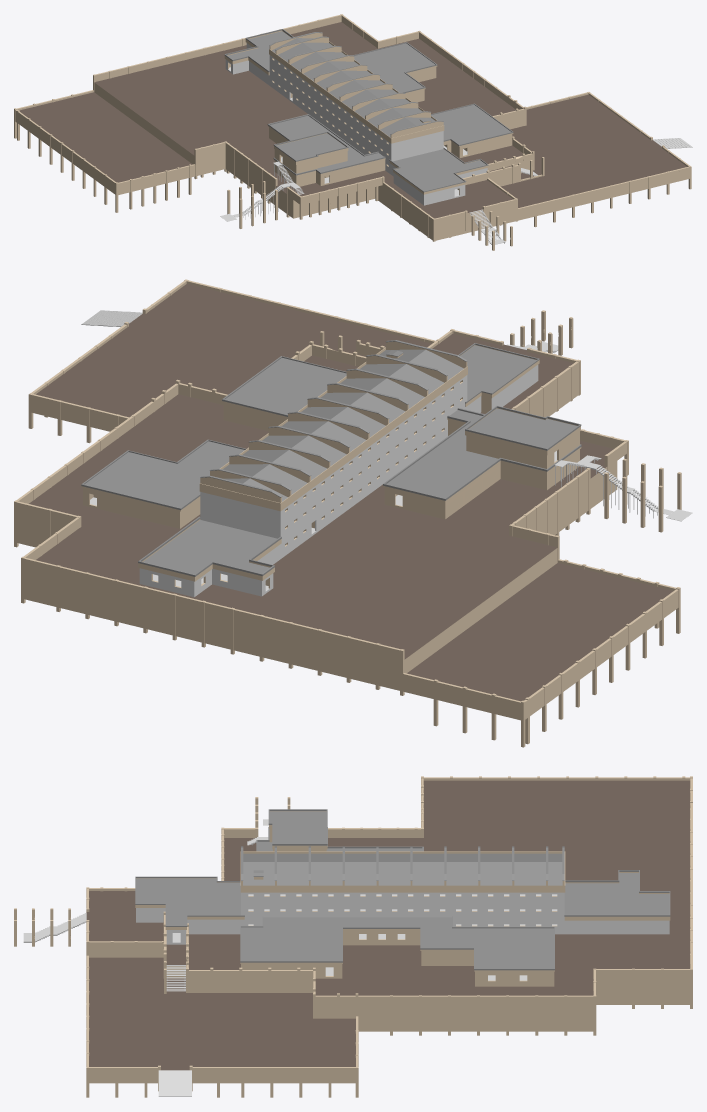
Rendered from building.fbx.
The picture shows the model from 3 angles, top to bottom: view 1: azimuth 30°, elevation 25°; view 2: azimuth 150°, elevation 25°; view 3: azimuth 270°, elevation 25°; orthographic projection. The views are drawn at different scales.
Parts seen in each view (by area): view 1: wall_8, wall_3, wall_4, roof_1, roof_3, column_1_6, wall_1, roof_2, wall_9, column_1_4, wall_10, wall_2 (+10 smaller); view 2: wall_8, wall_3, wall_4, roof_1, column_1_6, roof_3, wall_1, wall_9, wall_10, roof_6, wall_7, roof_4 (+9 smaller); view 3: wall_8, wall_3, roof_1, roof_3, wall_1, wall_10, wall_4, roof_2, roof_6, wall_7, column_1_6, wall_2 (+9 smaller).
Part boxes in pixels (left/top/right/bottom): wall_8: left=15, top=14, right=532, bottom=240; wall_3: left=501, top=92, right=689, bottom=220; wall_4: left=269, top=32, right=444, bottom=143; roof_1: left=272, top=38, right=434, bottom=137; roof_3: left=354, top=43, right=510, bottom=144; column_1_6: left=14, top=14, right=497, bottom=228; wall_1: left=270, top=55, right=390, bottom=173; roof_2: left=393, top=149, right=486, bottom=191; wall_9: left=267, top=114, right=385, bottom=186; column_1_4: left=299, top=92, right=691, bottom=241; wall_10: left=352, top=42, right=513, bottom=158; wall_2: left=389, top=147, right=488, bottom=205; wall_8: left=16, top=330, right=678, bottom=720; wall_3: left=31, top=280, right=435, bottom=431; wall_4: left=199, top=340, right=467, bottom=511; roof_1: left=223, top=349, right=463, bottom=501; column_1_6: left=14, top=414, right=681, bottom=747; roof_3: left=84, top=358, right=346, bottom=507; wall_1: left=282, top=376, right=466, bottom=557; wall_9: left=383, top=408, right=581, bottom=519; wall_10: left=81, top=356, right=346, bottom=528; roof_6: left=143, top=520, right=277, bottom=574; wall_7: left=138, top=516, right=281, bottom=597; roof_4: left=387, top=410, right=498, bottom=497; wall_8: left=86, top=777, right=692, bottom=1031; wall_3: left=86, top=955, right=358, bottom=1083; roof_1: left=243, top=853, right=562, bottom=885; roof_3: left=241, top=917, right=554, bottom=968; wall_1: left=243, top=892, right=562, bottom=934; wall_10: left=240, top=916, right=554, bottom=986; wall_4: left=240, top=846, right=565, bottom=892; roof_2: left=136, top=878, right=240, bottom=925; roof_6: left=564, top=873, right=669, bottom=914; wall_7: left=564, top=870, right=670, bottom=934; column_1_6: left=255, top=776, right=692, bottom=1035; wall_2: left=135, top=876, right=244, bottom=944.
Bounding box in the file's own units: 15118 × 2409 × 14023.
